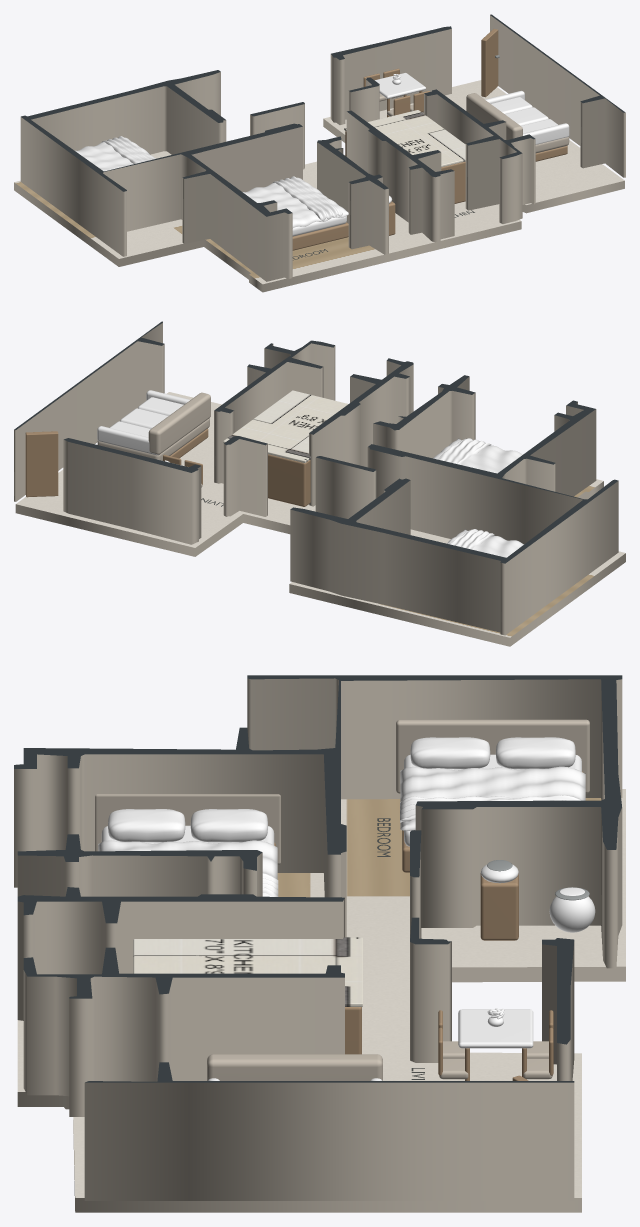
File: carina-vega-unit-03.glb
3 views of the same model, one above another, from view 1: azimuth 30°, elevation 25°; view 2: azimuth 150°, elevation 25°; view 3: azimuth 270°, elevation 25° (orthographic). The views are drawn at different scales.
Visible parts, largest first — view 1: Partition walls, Apartment floor, Stone worktop, Draped bed linen, Draped bed linen.001, Open oak door, Sofa back, Draped bed linen.002, Walnut upholstered base, Marble dining top, Draped bed linen.003, Kitchen cabinets (+4 smaller); view 2: Partition walls, Apartment floor, Stone worktop, Open oak door, Sofa back, Kitchen cabinets, Draped bed linen, Padded armrest.001, Draped bed linen.002, Upholstered sofa frame, Draped bed linen.001, Seat cushion.001 (+2 smaller); view 3: Partition walls, Apartment floor, Stone worktop, Draped bed linen.002, Upholstered headboard.001, Sofa back, Upholstered headboard, Marble dining top, Tailored pillow.001, Tailored pillow, Tailored pillow.002, Tailored pillow.003 (+5 smaller).
Boxes of the visible parts, <box> form: Partition walls: <box>20,14,625,281</box>; Apartment floor: <box>14,80,624,292</box>; Stone worktop: <box>344,110,465,167</box>; Draped bed linen: <box>242,177,348,228</box>; Draped bed linen.001: <box>273,176,342,220</box>; Open oak door: <box>481,29,498,97</box>; Sofa back: <box>466,93,522,139</box>; Draped bed linen.002: <box>75,137,155,171</box>; Walnut upholstered base: <box>292,222,348,250</box>; Marble dining top: <box>375,72,425,98</box>; Draped bed linen.003: <box>101,136,153,163</box>; Kitchen cabinets: <box>345,131,465,203</box>; Partition walls: <box>14,321,618,635</box>; Apartment floor: <box>15,392,625,646</box>; Stone worktop: <box>223,390,348,462</box>; Open oak door: <box>25,431,58,497</box>; Sofa back: <box>148,392,210,454</box>; Kitchen cabinets: <box>268,454,310,506</box>; Draped bed linen: <box>433,438,522,473</box>; Padded armrest.001: <box>97,426,159,455</box>; Draped bed linen.002: <box>447,529,523,557</box>; Upholstered sofa frame: <box>97,418,209,460</box>; Draped bed linen.001: <box>436,438,491,464</box>; Seat cushion.001: <box>120,408,168,428</box>; Partition walls: <box>14,675,622,1200</box>; Apartment floor: <box>17,789,625,1212</box>; Stone worktop: <box>133,937,362,1006</box>; Draped bed linen.002: <box>400,766,585,830</box>; Upholstered headboard.001: <box>396,719,589,793</box>; Sofa back: <box>207,1054,382,1080</box>; Upholstered headboard: <box>95,794,280,864</box>; Marble dining top: <box>458,1009,533,1048</box>; Tailored pillow.001: <box>190,809,267,842</box>; Tailored pillow: <box>108,809,185,842</box>; Tailored pillow.002: <box>410,737,490,769</box>; Tailored pillow.003: <box>495,737,575,769</box>.
Size of the model in its own units: 9.54 by 1.44 by 5.99.
12 materials, 2 textured.
